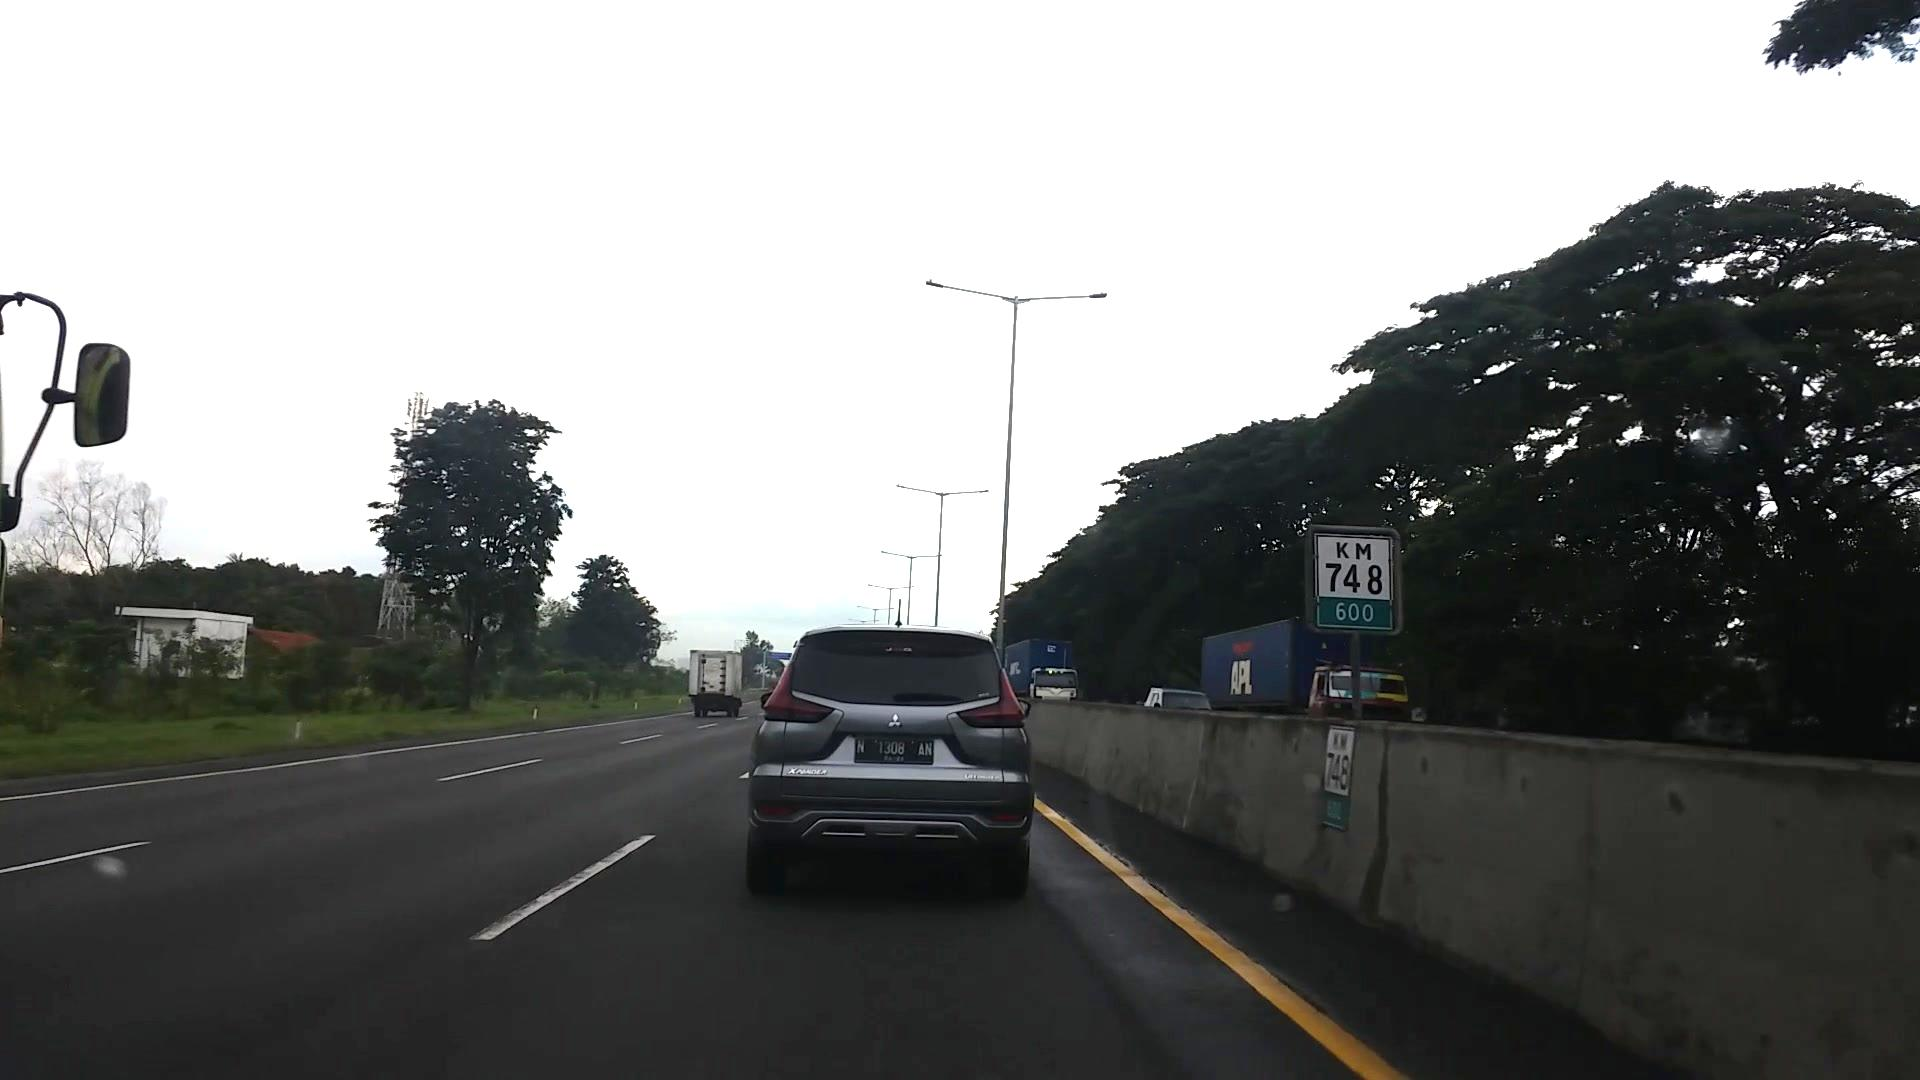plate_positive: (855, 735, 934, 766)
